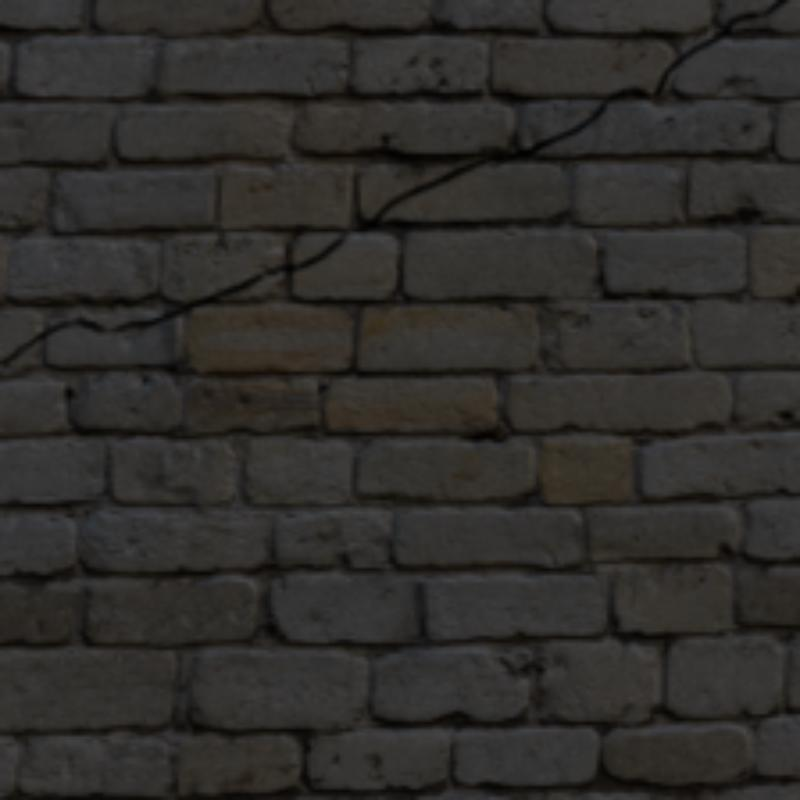pothole: (0, 0, 786, 364)
